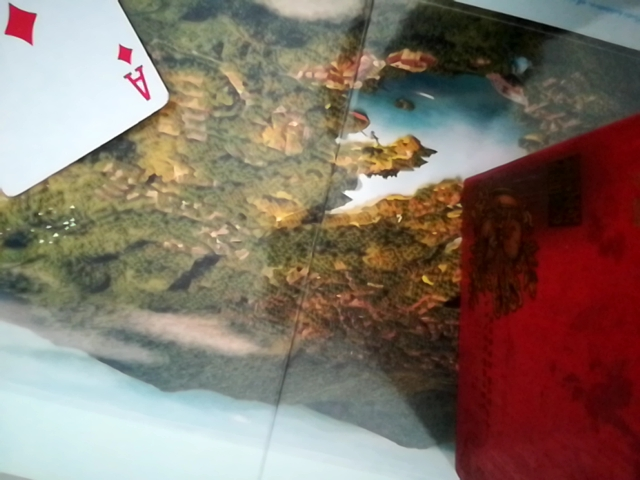fk a: (0, 0, 166, 209)
